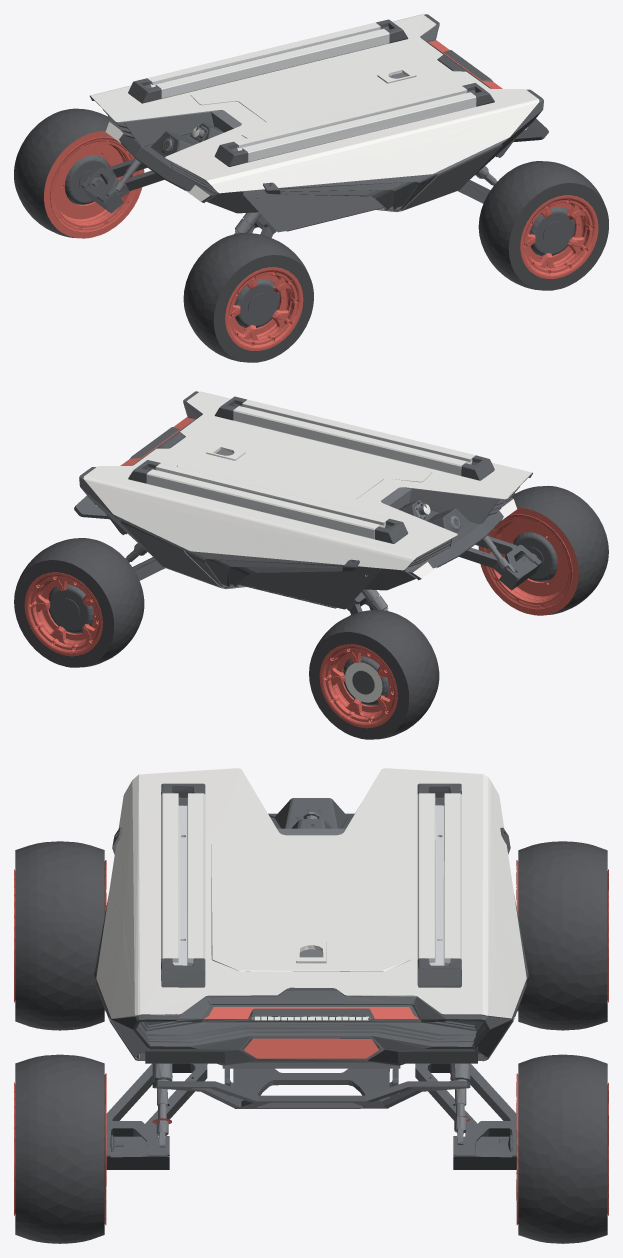
File: scout.glb
3 renders of one model, top to bottom at view 1: azimuth 30°, elevation 25°; view 2: azimuth 150°, elevation 25°; view 3: azimuth 270°, elevation 25°, orthographic. The views are drawn at different scales.
Parts seen in each view (by area): view 1: base_shell, base_black, wheel2_rubber, wheel0_rubber, base_alu, base_dark, wheel3_hub, wheel3_rubber, wheel0_hub, wheel2_hub, wheel2_black, wheel0_black (+1 smaller); view 2: base_shell, base_black, wheel3_rubber, wheel1_rubber, base_alu, wheel2_hub, wheel2_rubber, wheel1_hub, wheel3_hub, base_dark, wheel1_black, wheel2_black (+1 smaller); view 3: base_shell, base_black, wheel0_rubber, wheel1_rubber, wheel3_rubber, wheel2_rubber, base_alu, base_dark, base_red, wheel0_hub, wheel1_hub.
Part boxes in pixels (x1,y1,x2,y2): base_shell: [90, 14, 539, 201]; base_black: [81, 14, 548, 237]; wheel2_rubber: [183, 233, 313, 362]; wheel0_rubber: [478, 161, 608, 290]; base_alu: [147, 22, 476, 162]; base_dark: [89, 25, 508, 234]; wheel3_hub: [44, 130, 144, 238]; wheel3_rubber: [14, 108, 110, 237]; wheel0_hub: [520, 195, 598, 279]; wheel2_hub: [225, 267, 303, 351]; wheel2_black: [234, 279, 279, 327]; wheel0_black: [529, 207, 574, 256]; base_shell: [83, 391, 532, 702]; base_black: [74, 391, 541, 614]; wheel3_rubber: [309, 610, 439, 739]; wheel1_rubber: [14, 538, 144, 667]; base_alu: [146, 400, 475, 539]; wheel2_hub: [478, 508, 578, 615]; wheel2_rubber: [512, 485, 608, 615]; wheel1_hub: [24, 572, 102, 656]; wheel3_hub: [319, 644, 397, 728]; base_dark: [125, 402, 532, 611]; wheel1_black: [48, 584, 93, 633]; wheel2_black: [513, 532, 557, 581]; base_shell: [96, 768, 526, 1020]; base_black: [94, 783, 528, 1169]; wheel0_rubber: [15, 1054, 104, 1243]; wheel1_rubber: [518, 1054, 607, 1243]; wheel3_rubber: [518, 841, 607, 1030]; wheel2_rubber: [15, 841, 104, 1030]; base_alu: [161, 793, 461, 969]; base_dark: [96, 812, 514, 1147]; base_red: [152, 1007, 470, 1124]; wheel0_hub: [14, 1073, 106, 1224]; wheel1_hub: [516, 1073, 608, 1224].
Bounding box in the file's own units: 0.6226 × 0.2501 × 0.5335.
